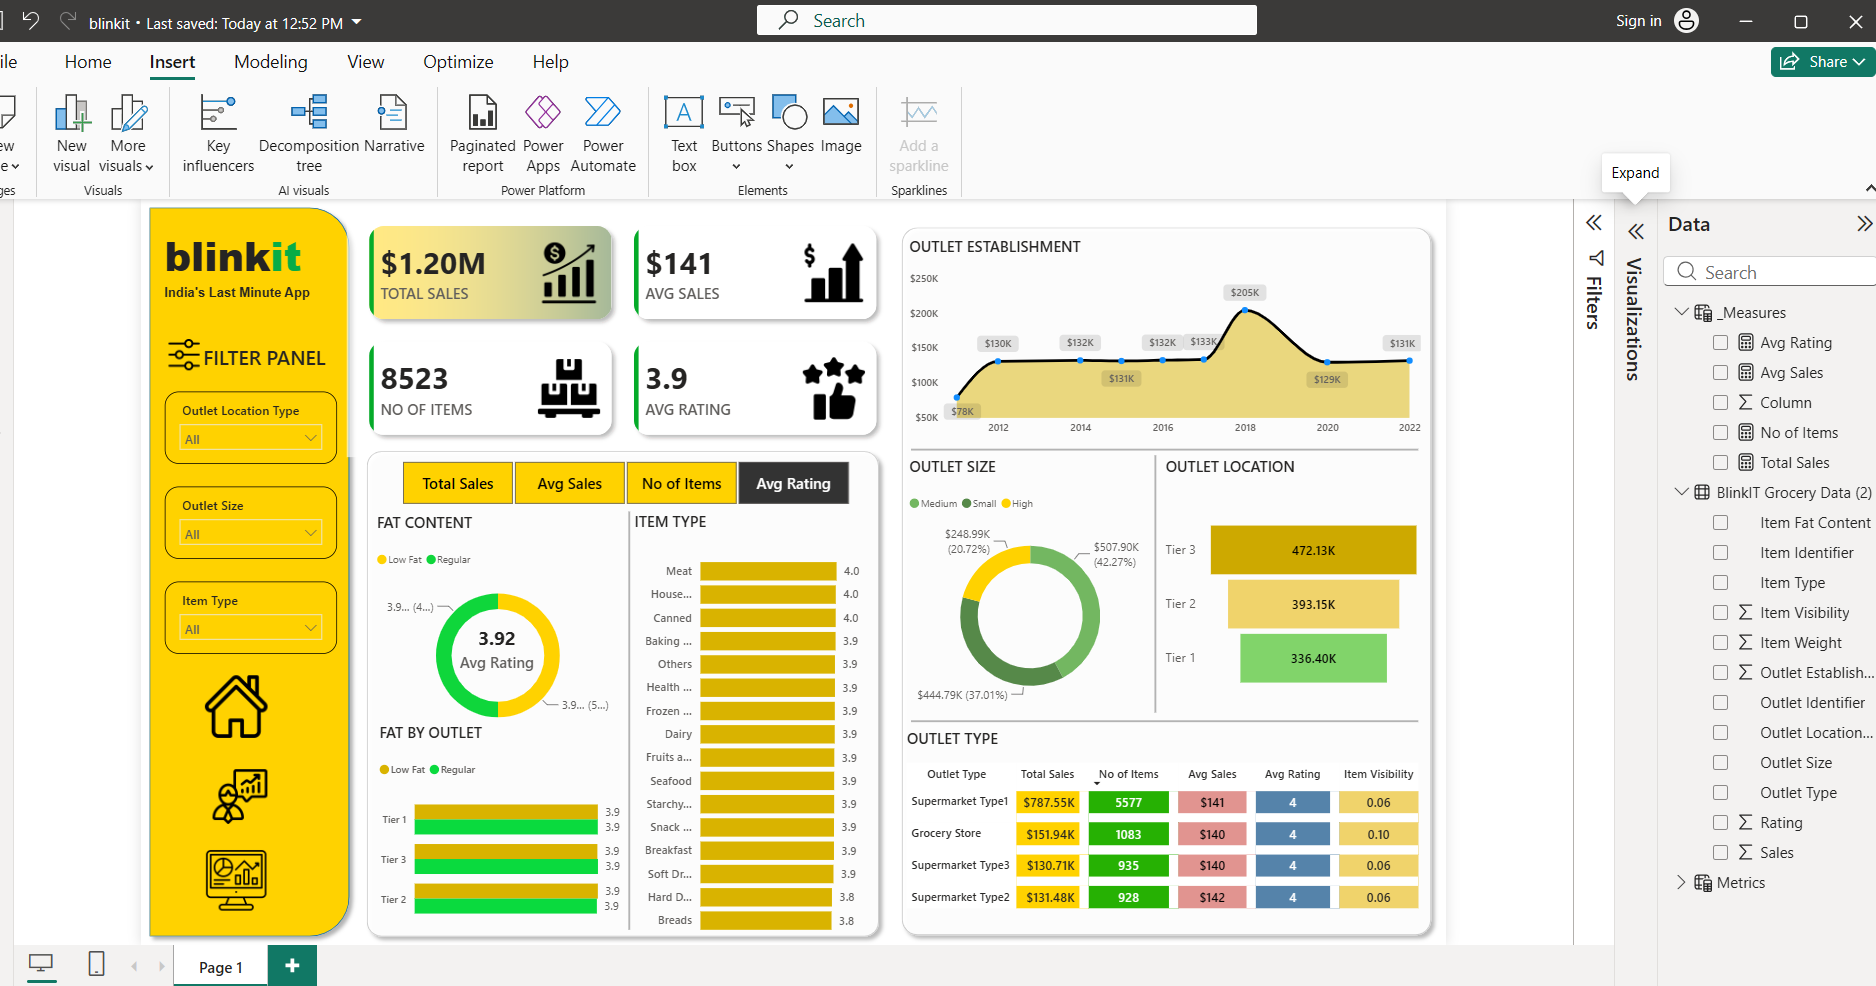

The page's visual inventory and layout, read from the dashboard file:
{"tool":"powerbi","page":{"name":"Page 1","canvas":[1400,800],"ordinal":0},"visuals":[{"type":"shape","box":[0,0,232.6,800],"z":0},{"type":"textbox","box":[20,25.7,172.9,71],"z":1000},{"type":"textbox","box":[20,85.7,195.7,44.2],"z":2000},{"type":"cardVisual","fields":{"Data":["_Measures.Total Sales","_Measures.Avg Sales","_Measures.No of Items","_Measures.Avg Rating"]},"box":[215.7,0,603.3,283.7],"z":3000},{"type":"shape","box":[232.9,261.4,567.1,538.6],"z":4000},{"type":"donutChart","title":"FAT CONTENT","fields":{"Y":["_Measures.Avg Rating"],"Category":["BlinkIT Grocery Data (2).Item Fat Content"]},"box":[248.6,335.7,270,250],"z":5000},{"type":"slicer","fields":{"Values":["Metrics.Metrics"]},"box":[254.7,274.8,528.2,59],"z":6000},{"type":"cardVisual","fields":{"Data":["_Measures.Avg Rating"]},"box":[310,432.9,144.3,98.6],"z":7000},{"type":"clusteredBarChart","title":"FAT BY OUTLET","fields":{"Y":["_Measures.Avg Rating"],"Category":["BlinkIT Grocery Data (2).Outlet Location Type"],"Series":["BlinkIT Grocery Data (2).Item Fat Content"]},"box":[250.7,560.3,268.6,230],"z":8000},{"type":"shape","box":[455.7,335.7,135.7,448.6],"z":9000},{"type":"barChart","title":"ITEM TYPE","fields":{"Y":["_Measures.Avg Rating"],"Category":["BlinkIT Grocery Data (2).Item Type"]},"box":[524.1,333.8,252,465.1],"z":10000},{"type":"shape","box":[807.1,21.4,585.7,777.1],"z":11000},{"type":"lineChart","title":"OUTLET ESTABLISHMENT","fields":{"Y":["_Measures.Total Sales"],"Category":["BlinkIT Grocery Data (2).Outlet Establishment Year"]},"box":[818.6,38.6,558.6,222.9],"z":12000},{"type":"shape","box":[825.7,219.8,544.2,97.9],"z":13000},{"type":"donutChart","title":"OUTLET SIZE","fields":{"Y":["_Measures.Total Sales"],"Category":["BlinkIT Grocery Data (2).Outlet Size"]},"box":[819,274.8,269.4,285.5],"z":14000},{"type":"shape","box":[1020.1,274.8,135.4,276.1],"z":15000},{"type":"funnel","title":"OUTLET LOCATION","fields":{"Y":["Sum(BlinkIT Grocery Data (2).Sales)"],"Category":["BlinkIT Grocery Data (2).Outlet Location Type"]},"box":[1093.8,274.8,284.2,285.5],"z":16000},{"type":"shape","box":[825.7,510.7,544.3,98.6],"z":17000},{"type":"pivotTable","title":"OUTLET TYPE","fields":{"Rows":["BlinkIT Grocery Data (2).Outlet Type"],"Values":["_Measures.Total Sales","_Measures.No of Items","_Measures.Avg Sales","_Measures.Avg Rating","Avg(BlinkIT Grocery Data (2).Item Visibility)"]},"box":[816.4,567,568.4,213.1],"z":18000},{"type":"slicer","fields":{"Values":["BlinkIT Grocery Data (2).Outlet Location Type"]},"box":[25.5,206.4,185,77.7],"z":19000},{"type":"slicer","fields":{"Values":["BlinkIT Grocery Data (2).Outlet Size"]},"box":[25.5,308.3,185,77.7],"z":20000},{"type":"slicer","fields":{"Values":["BlinkIT Grocery Data (2).Item Type"]},"box":[25.5,410.2,185,77.7],"z":21000},{"type":"textbox","box":[61.5,150.1,153.1,49.5],"z":21001},{"type":"image","box":[17.4,150.1,57.6,33.5],"z":21002},{"type":"image","box":[46.9,697.1,109.9,67],"z":21003},{"type":"image","box":[50.9,607.2,109.9,67],"z":21004},{"type":"image","box":[46.9,510.7,109.9,67],"z":21005}]}

Visuals, with their boxes on the page's 1400x800 design canvas (x1, y1, x2, y2). These are canvas units, not pixel positions in the 1876x986 screenshot, which may show the page scaled, cropped or inside an application window:
shape: bbox(0, 0, 233, 800)
textbox: bbox(20, 26, 193, 97)
textbox: bbox(20, 86, 216, 130)
cardVisual - _Measures.Total Sales x _Measures.Avg Sales: bbox(216, 0, 819, 284)
shape: bbox(233, 261, 800, 800)
"FAT CONTENT" donutChart: bbox(249, 336, 519, 586)
slicer - Metrics.Metrics: bbox(255, 275, 783, 334)
cardVisual - _Measures.Avg Rating: bbox(310, 433, 454, 532)
"FAT BY OUTLET" clusteredBarChart: bbox(251, 560, 519, 790)
shape: bbox(456, 336, 591, 784)
"ITEM TYPE" barChart: bbox(524, 334, 776, 799)
shape: bbox(807, 21, 1393, 798)
"OUTLET ESTABLISHMENT" lineChart: bbox(819, 39, 1377, 262)
shape: bbox(826, 220, 1370, 318)
"OUTLET SIZE" donutChart: bbox(819, 275, 1088, 560)
shape: bbox(1020, 275, 1156, 551)
"OUTLET LOCATION" funnel: bbox(1094, 275, 1378, 560)
shape: bbox(826, 511, 1370, 609)
"OUTLET TYPE" pivotTable: bbox(816, 567, 1385, 780)
slicer - BlinkIT Grocery Data (2).Outlet Location Type: bbox(26, 206, 210, 284)
slicer - BlinkIT Grocery Data (2).Outlet Size: bbox(26, 308, 210, 386)
slicer - BlinkIT Grocery Data (2).Item Type: bbox(26, 410, 210, 488)
textbox: bbox(62, 150, 215, 200)
image: bbox(17, 150, 75, 184)
image: bbox(47, 697, 157, 764)
image: bbox(51, 607, 161, 674)
image: bbox(47, 511, 157, 578)
